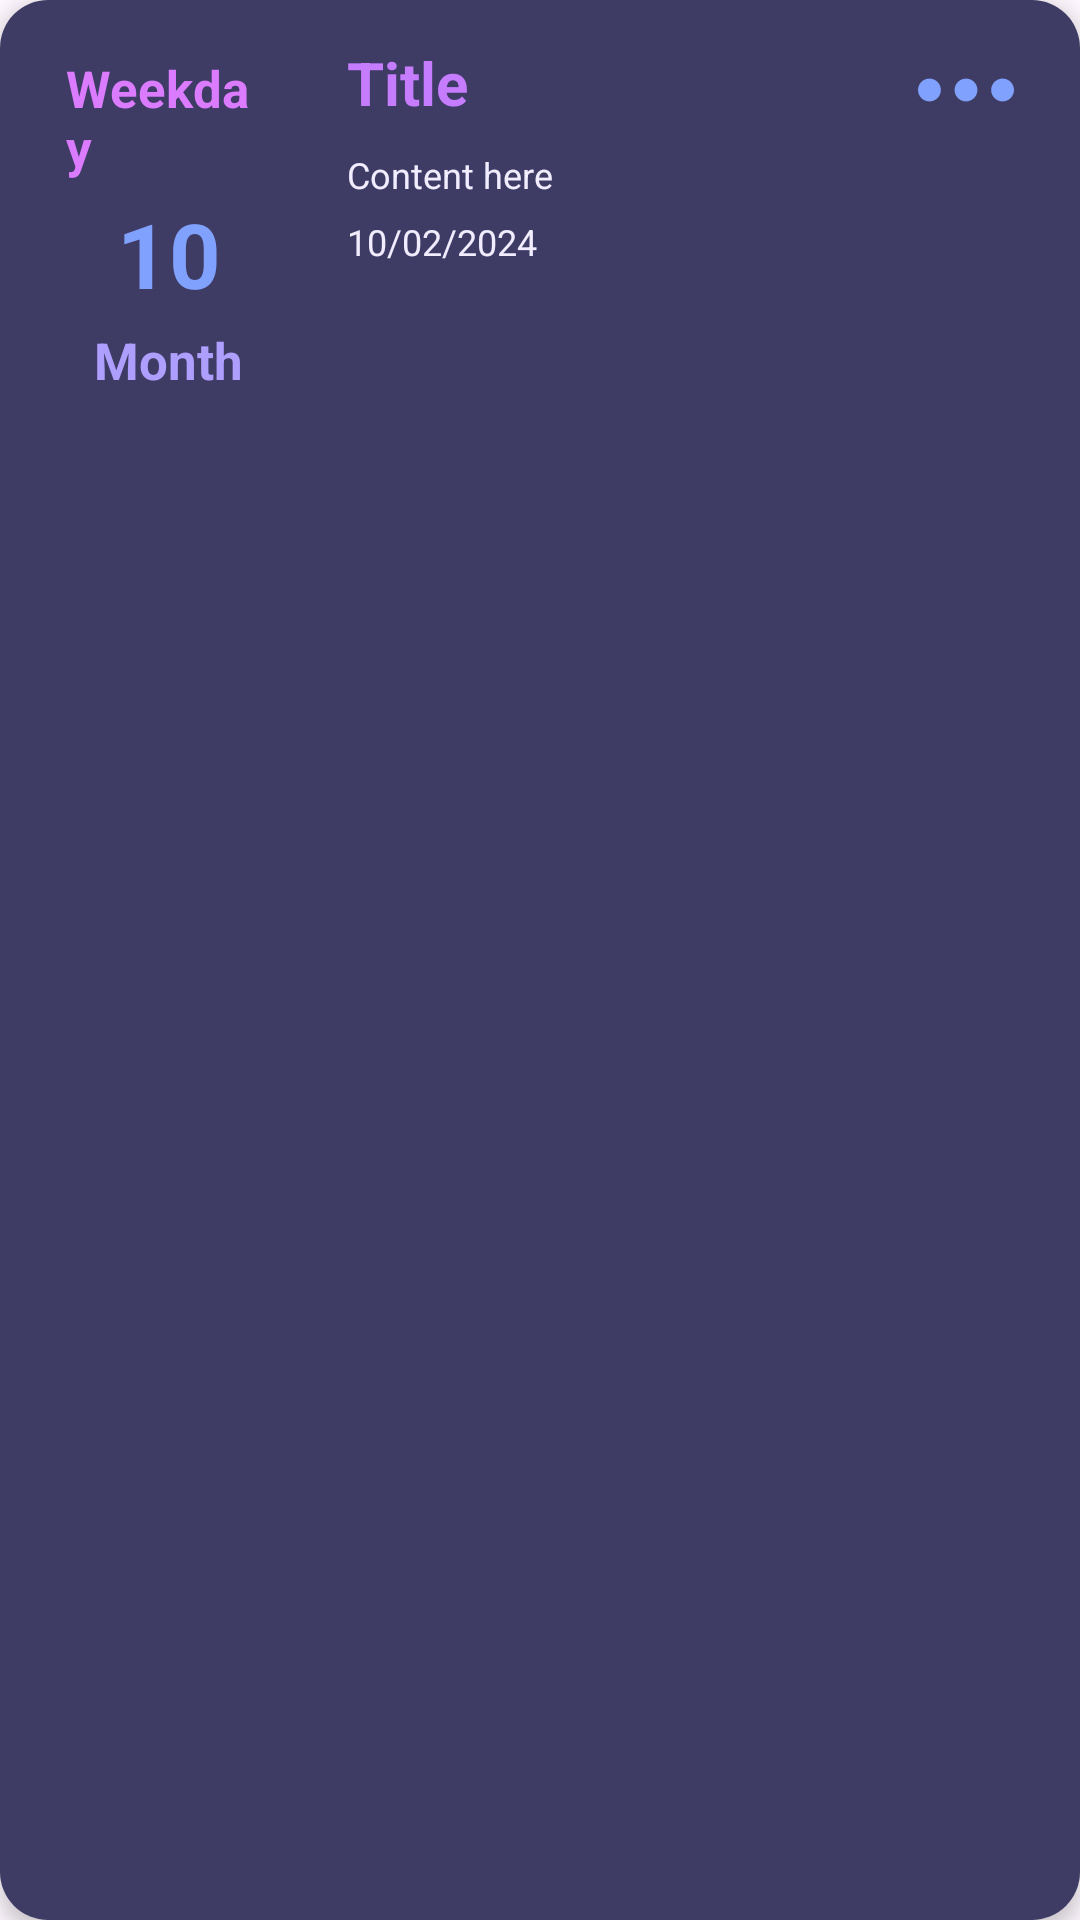

Where to tap for icons on this 1080 × 1920 app screen, as (x,y):
more: (966,90)
